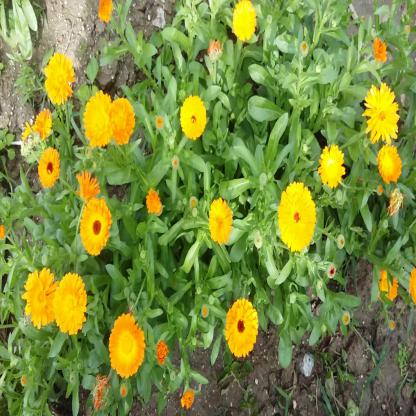marigold: (279, 186, 317, 251), (107, 313, 143, 378), (21, 265, 58, 328), (52, 274, 85, 335), (225, 297, 258, 356), (363, 84, 398, 137), (82, 90, 113, 146), (79, 200, 109, 256), (46, 52, 75, 104), (107, 96, 136, 146), (320, 142, 345, 186), (209, 199, 232, 246), (376, 257, 398, 306), (180, 96, 206, 137), (232, 0, 257, 40), (38, 147, 61, 187), (378, 143, 400, 183), (76, 168, 100, 204), (33, 106, 53, 141)
